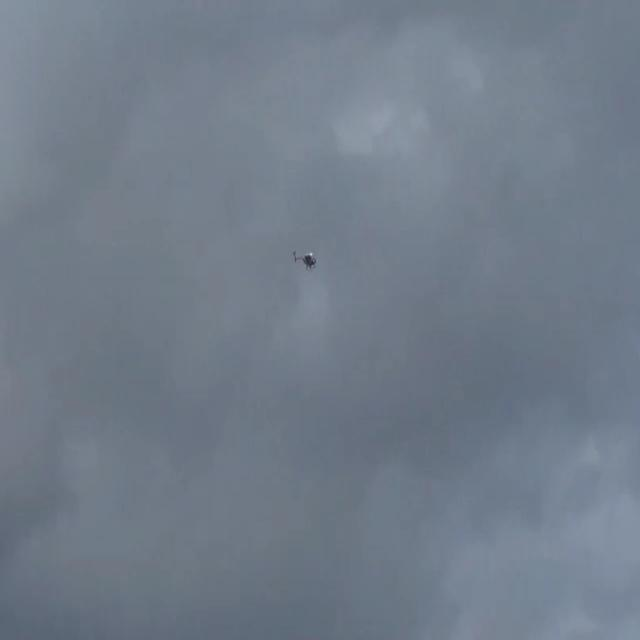Helicopter: (266, 224, 338, 288)
